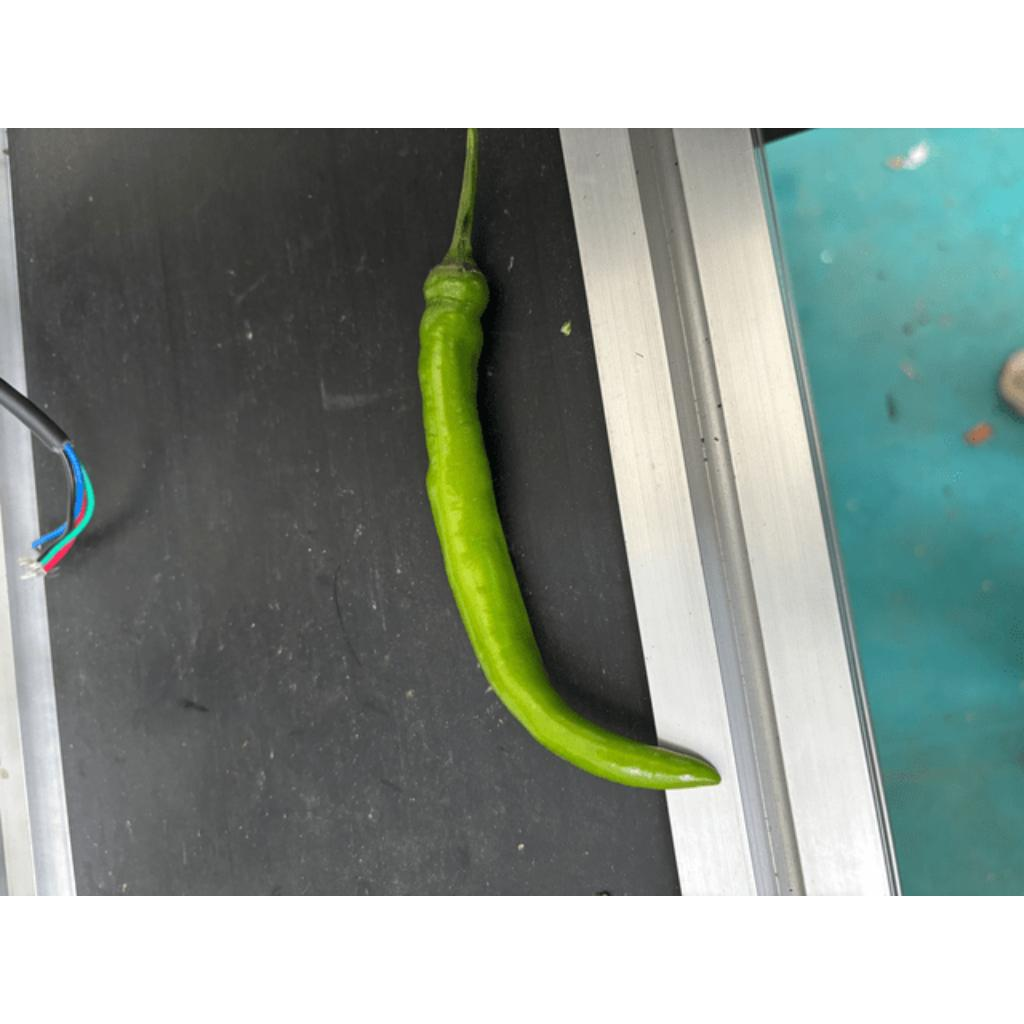chili: (415, 248, 723, 792)
